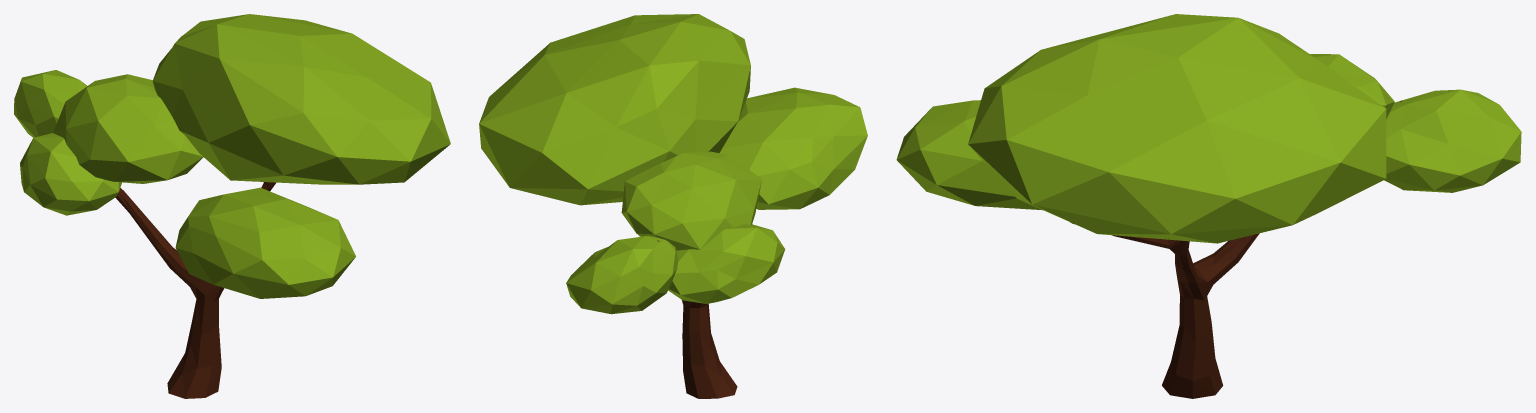
Rendered from acacia_2.glb.
3 renders of one model, left to right at view 1: azimuth 30°, elevation 25°; view 2: azimuth 150°, elevation 25°; view 3: azimuth 270°, elevation 25°, orthographic. The views are drawn at different scales.
Parts seen in each view (by area): view 1: Plane.001; view 2: Plane.001; view 3: Plane.001.
Boxes of the visible parts, box(x1,y1,x2,y2) form: Plane.001: box(14, 14, 450, 398); Plane.001: box(479, 14, 867, 398); Plane.001: box(896, 14, 1521, 398).
Bounding box in the file's own units: 7.59 × 7.5 × 10.79.
